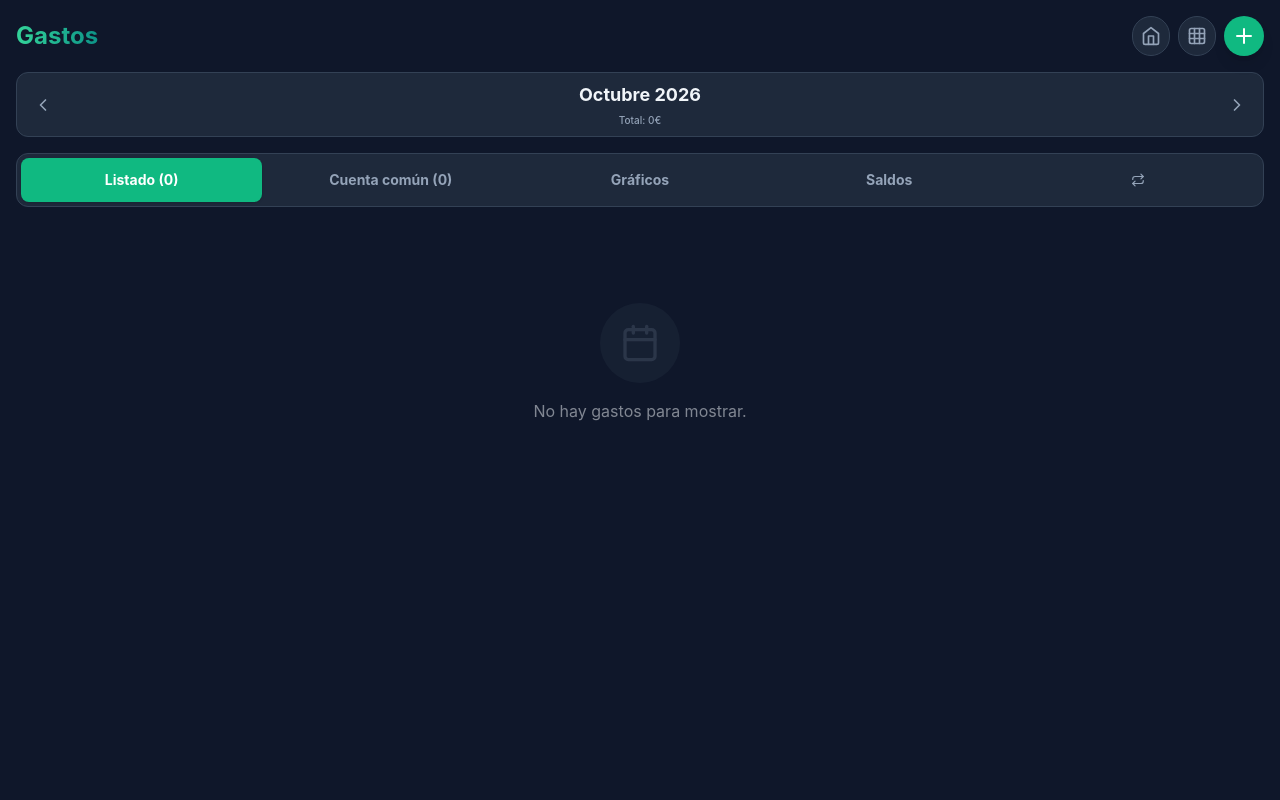
Test: Expenses Financial Core › creates a CM advance and restores the people option when opening another expense
Click the button named "Añadir gasto" at (1244, 36), box [1224,16,1264,56]
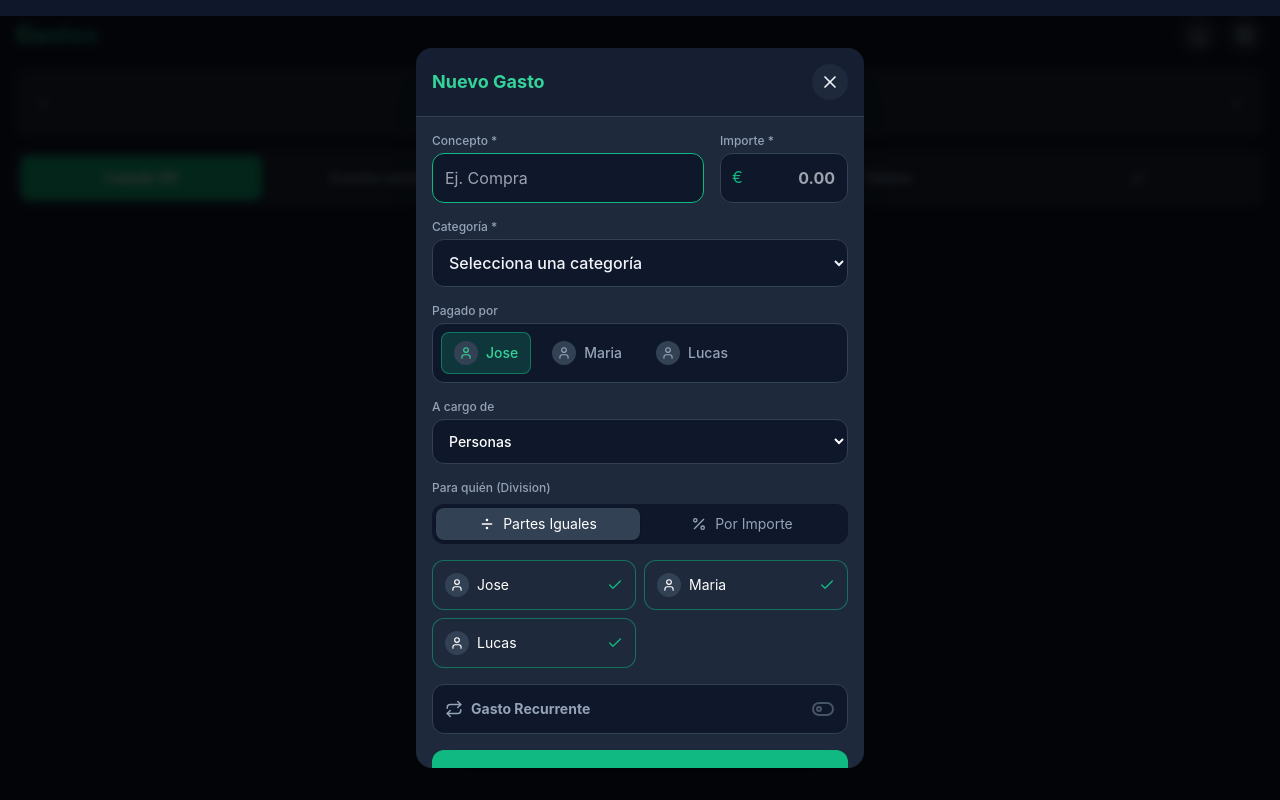
Type "Cena restaurante" into the field with placeholder "Ej. Compra" at (568, 178), box [432,153,704,203]
Type "80" into the number field with placeholder "0.00" at (784, 178), box [720,153,848,203]
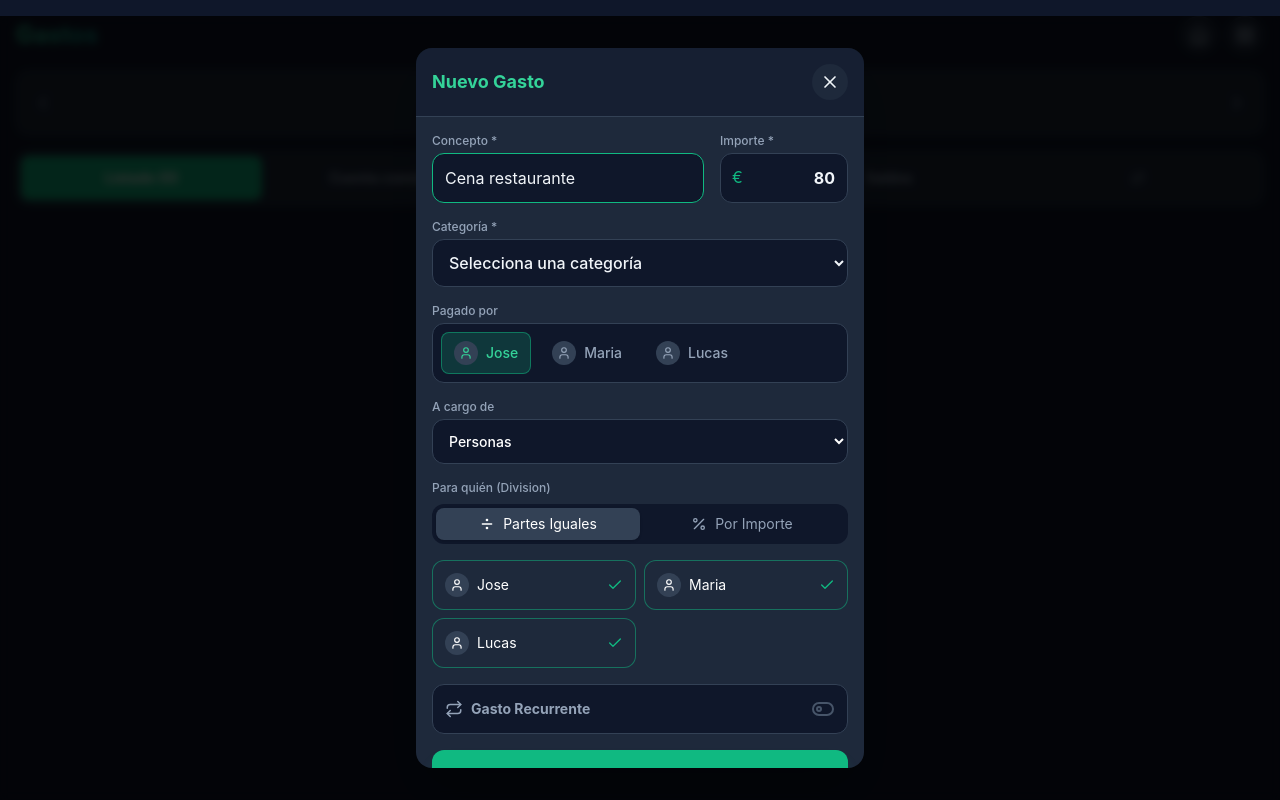
Select "🍽️ Restaurante" in the dropdown showing "Selecciona una categoría" at (640, 263), box [432,239,848,287]
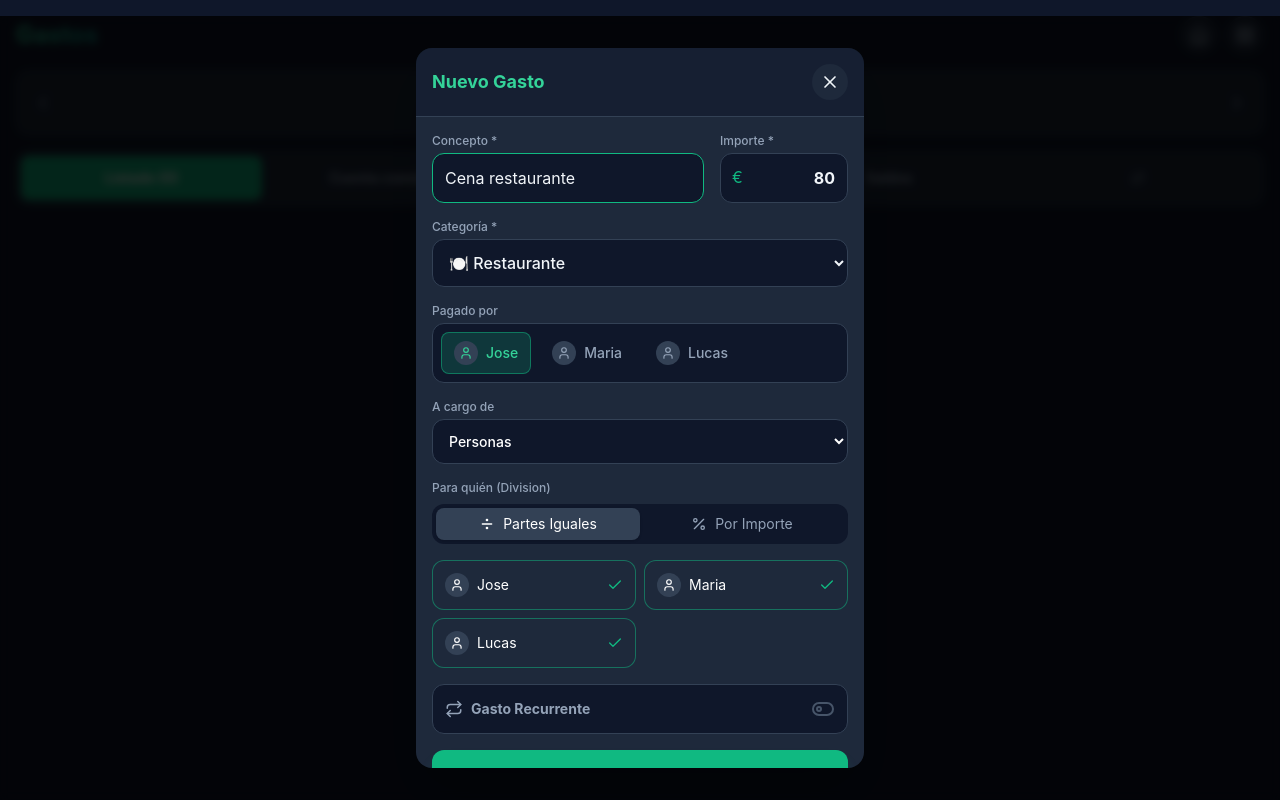
Select "Cuenta común (CM)" in the dropdown labelled "A cargo de" at (640, 442), box [432,419,848,464]
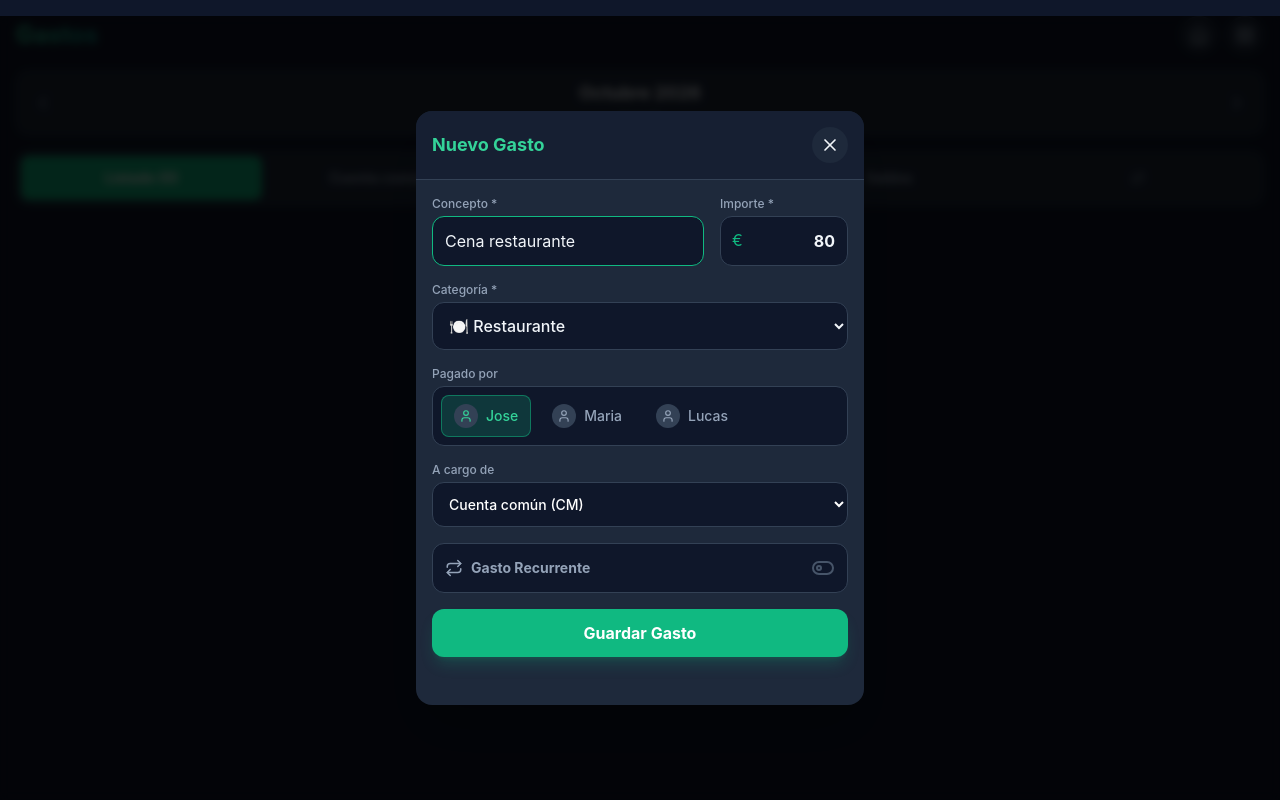
Expected: the button "Partes Iguales" is gone
Click the button "Guardar Gasto" at (640, 633), box [432,609,848,657]
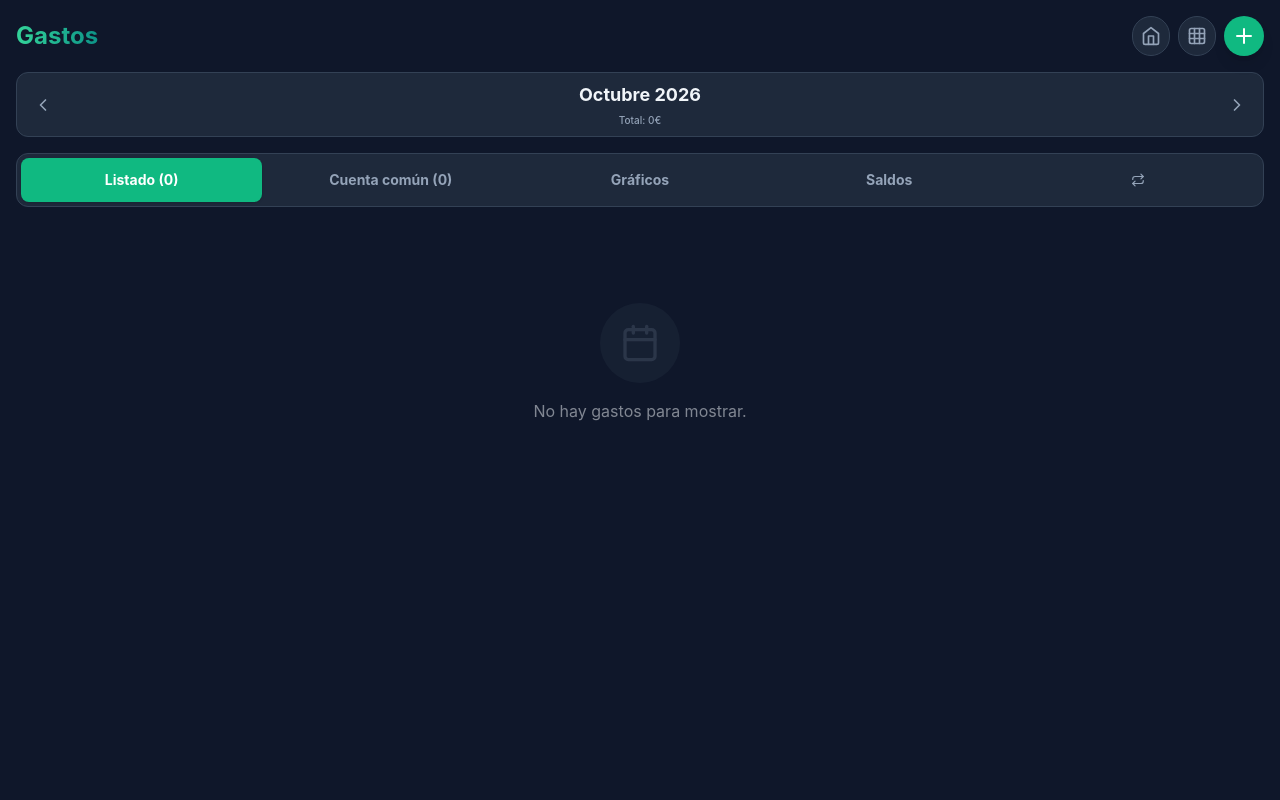
Expected: the heading "Nuevo Gasto" is gone
Click the button named "Añadir gasto" at (1244, 36), box [1224,16,1264,56]
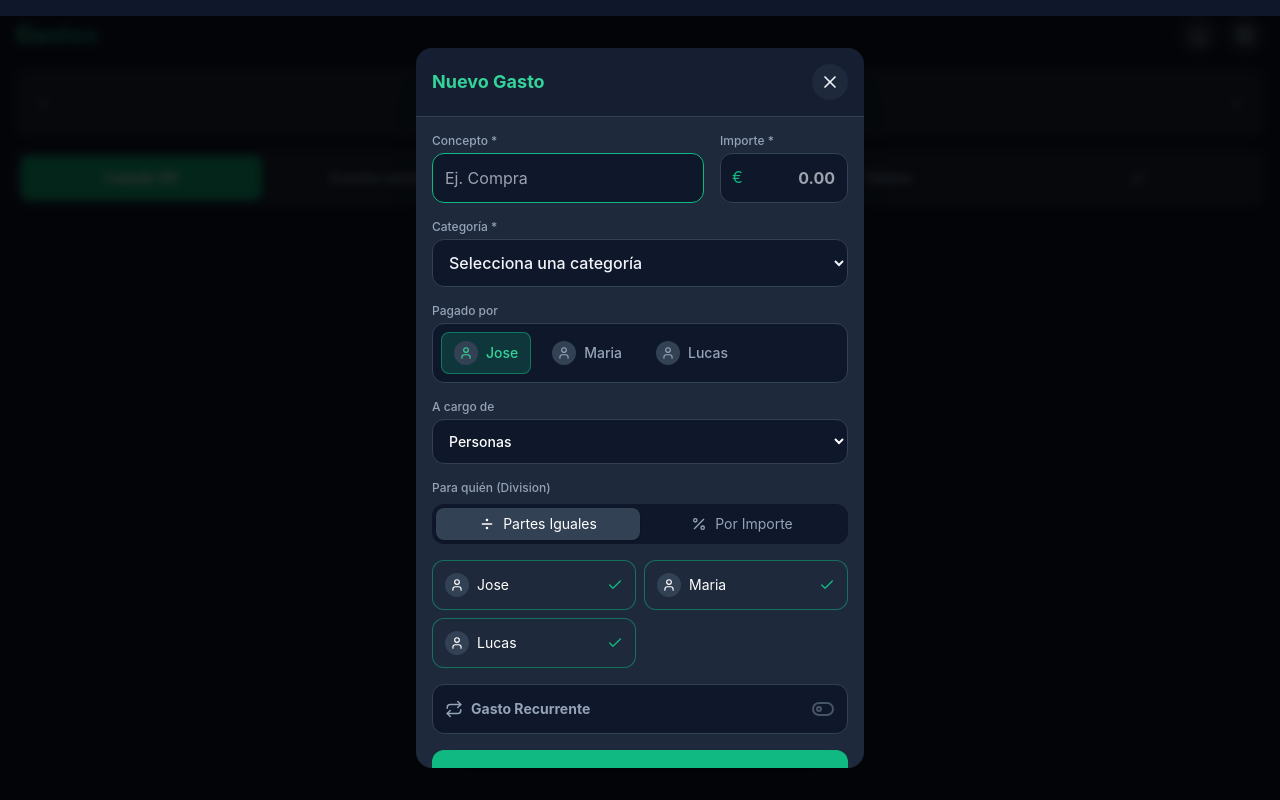
Expected: the dropdown labelled "A cargo de" shows "Personas", [432,419,848,464]
